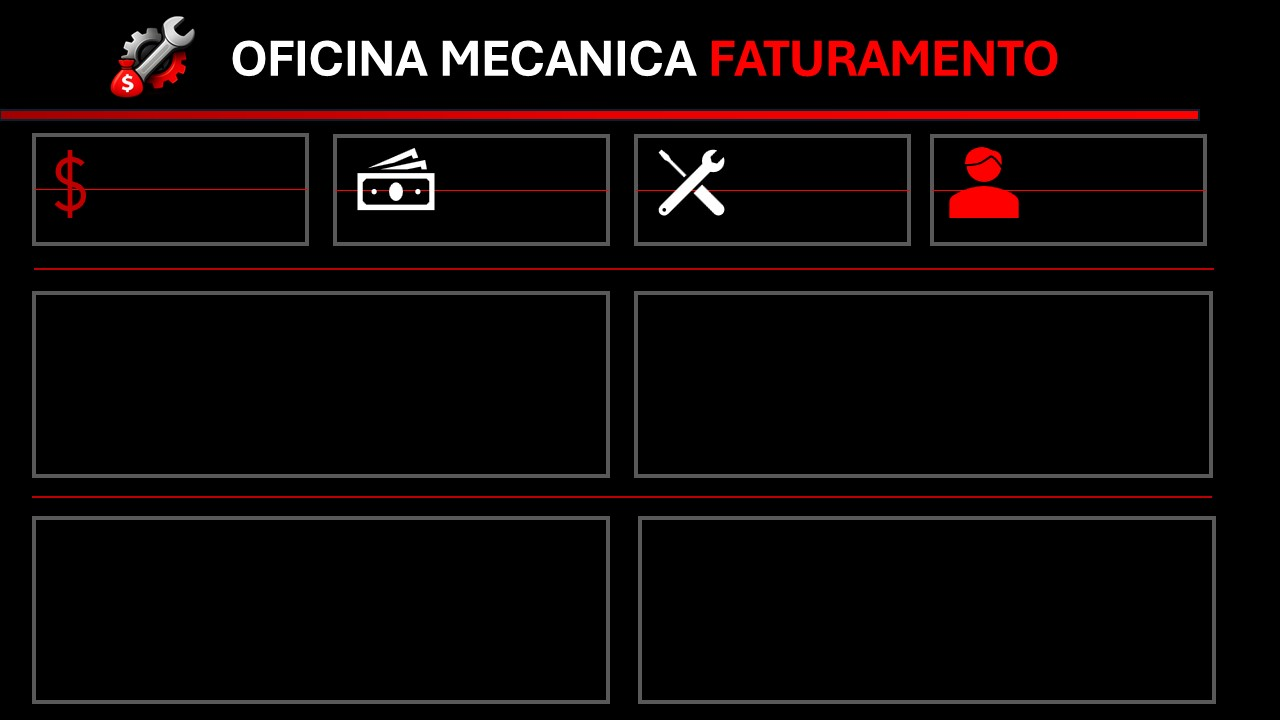

The dashboard page shown, as its layout file describes it:
{"tool":"powerbi","page":{"name":"Página 1","canvas":[1280,720],"ordinal":0},"visuals":[{"type":"image","box":[0,0,1280,720],"z":500},{"type":"scatterChart","box":[32,288,576,192],"z":1000},{"type":"card","fields":{"Values":["Avg(Ordens de Serviço.Total)"]},"box":[336,144,288,96],"z":1001},{"type":"card","fields":{"Values":["Max(Ordens de Serviço.Total)"]},"box":[720,144,192,96],"z":1002},{"type":"card","fields":{"Values":["CountNonNull(Ordens de Serviço.ID_Cliente)"]},"box":[992,128,224,128],"z":1003}]}

Visuals, with their boxes in screenshot pixels (x1, y1, x2, y2), scaled from the page's 1280x720 canvas onto the 1280x720 screenshot:
image: x1=0 y1=0 x2=1279 y2=719
scatterChart: x1=32 y1=288 x2=608 y2=480
card - Avg(Ordens de Serviço.Total): x1=336 y1=144 x2=624 y2=240
card - Max(Ordens de Serviço.Total): x1=720 y1=144 x2=912 y2=240
card - CountNonNull(Ordens de Serviço.ID_Cliente): x1=992 y1=128 x2=1216 y2=256
